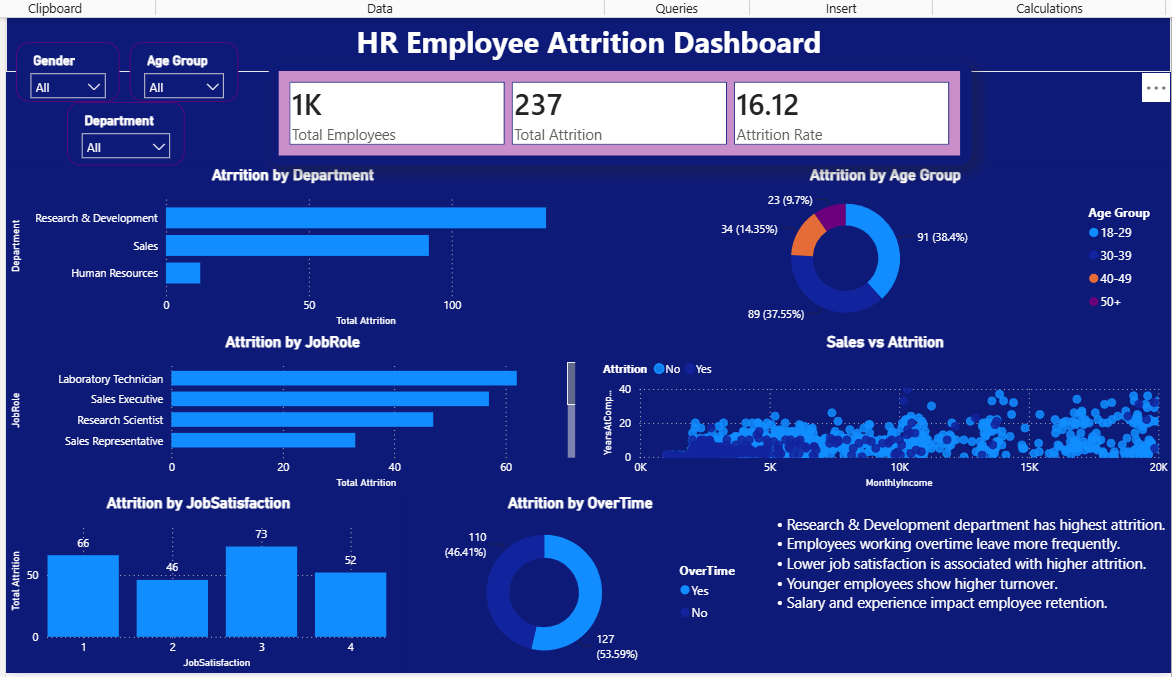

The page's visual inventory and layout, read from the dashboard file:
{"tool":"powerbi","page":{"name":"Page 1","canvas":[1280,720],"ordinal":0},"visuals":[{"type":"clusteredBarChart","title":"Atrrition by Department","fields":{"Category":["WA_Fn-UseC_-HR-Employee-Attriti.Department"],"Y":["WA_Fn-UseC_-HR-Employee-Attriti.Total Attrition"]},"box":[0,163.3,630,181.7],"z":0},{"type":"donutChart","title":"Attrition by Age Group","fields":{"Category":["WA_Fn-UseC_-HR-Employee-Attriti.Age Group"],"Y":["WA_Fn-UseC_-HR-Employee-Attriti.Total Attrition"]},"box":[650.4,163.3,629.8,182.5],"z":1000},{"type":"clusteredBarChart","title":"Attrition by JobRole","fields":{"Category":["WA_Fn-UseC_-HR-Employee-Attriti.JobRole"],"Y":["WA_Fn-UseC_-HR-Employee-Attriti.Total Attrition"]},"box":[0,345.8,629.8,177],"z":2000},{"type":"scatterChart","title":"Sales vs Attrition","fields":{"X":["WA_Fn-UseC_-HR-Employee-Attriti.MonthlyIncome"],"Y":["WA_Fn-UseC_-HR-Employee-Attriti.YearsAtCompany"],"Series":["WA_Fn-UseC_-HR-Employee-Attriti.Attrition"]},"box":[650.4,345.8,629.8,177],"z":3000},{"type":"clusteredColumnChart","title":"Attrition by JobSatisfaction","fields":{"Category":["WA_Fn-UseC_-HR-Employee-Attriti.JobSatisfaction"],"Y":["WA_Fn-UseC_-HR-Employee-Attriti.Total Attrition"]},"box":[0,522.8,422.6,197.6],"z":4000},{"type":"donutChart","title":"Attrition by OverTime","fields":{"Category":["WA_Fn-UseC_-HR-Employee-Attriti.OverTime"],"Y":["WA_Fn-UseC_-HR-Employee-Attriti.Total Attrition"]},"box":[437.7,522.8,385.6,197.6],"z":5000},{"type":"textbox","box":[0,0,1280,60],"z":6000},{"type":"textbox","title":"Key Insights:","box":[841.2,522.8,439.1,197.6],"z":7000},{"type":"slicer","fields":{"Values":["WA_Fn-UseC_-HR-Employee-Attriti.Age Group"]},"box":[135.8,27.4,119.4,65.9],"z":8000},{"type":"slicer","fields":{"Values":["WA_Fn-UseC_-HR-Employee-Attriti.Gender"]},"box":[11,27.4,113.9,65.9],"z":9000},{"type":"cardVisual","fields":{"Data":["WA_Fn-UseC_-HR-Employee-Attriti.Total Employees","WA_Fn-UseC_-HR-Employee-Attriti.Total Attrition","WA_Fn-UseC_-HR-Employee-Attriti.Attrition Rate"]},"box":[288.3,48.3,771.7,115],"z":10000},{"type":"slicer","fields":{"Values":["WA_Fn-UseC_-HR-Employee-Attriti.Department"]},"box":[67.2,93.3,129,70],"z":11000}]}

Visuals, with their boxes on the page's 1280x720 design canvas (x1, y1, x2, y2). These are canvas units, not pixel positions in the 1172x677 screenshot, which may show the page scaled, cropped or inside an application window:
"Atrrition by Department" clusteredBarChart: detection(0, 163, 630, 345)
"Attrition by Age Group" donutChart: detection(650, 163, 1280, 346)
"Attrition by JobRole" clusteredBarChart: detection(0, 346, 630, 523)
"Sales vs Attrition" scatterChart: detection(650, 346, 1280, 523)
"Attrition by JobSatisfaction" clusteredColumnChart: detection(0, 523, 423, 720)
"Attrition by OverTime" donutChart: detection(438, 523, 823, 720)
textbox: detection(0, 0, 1280, 60)
"Key Insights:" textbox: detection(841, 523, 1280, 720)
slicer - WA_Fn-UseC_-HR-Employee-Attriti.Age Group: detection(136, 27, 255, 93)
slicer - WA_Fn-UseC_-HR-Employee-Attriti.Gender: detection(11, 27, 125, 93)
cardVisual - WA_Fn-UseC_-HR-Employee-Attriti.Total Employees x WA_Fn-UseC_-HR-Employee-Attriti.Total Attrition: detection(288, 48, 1060, 163)
slicer - WA_Fn-UseC_-HR-Employee-Attriti.Department: detection(67, 93, 196, 163)
